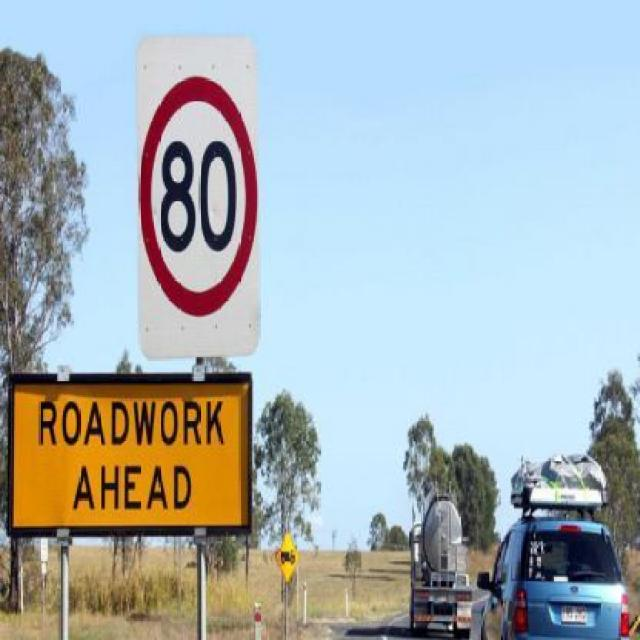Ograniczenie predkosci do 80: (140, 83, 255, 314)
